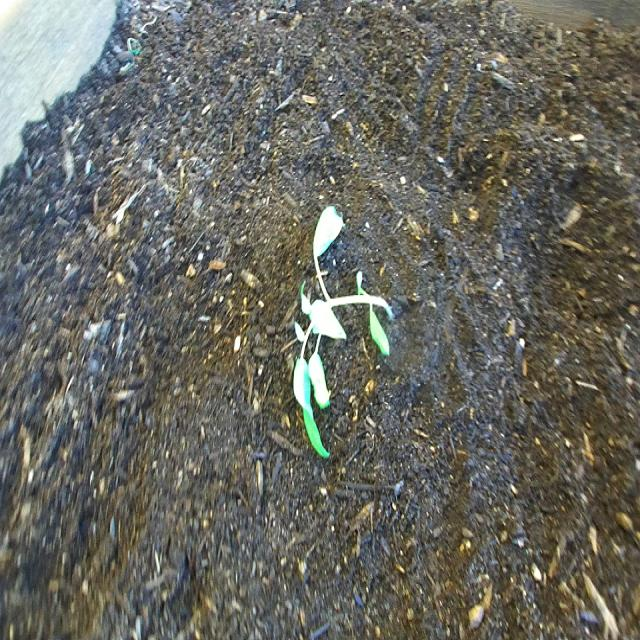Unhealthy: (270, 172, 409, 464)
